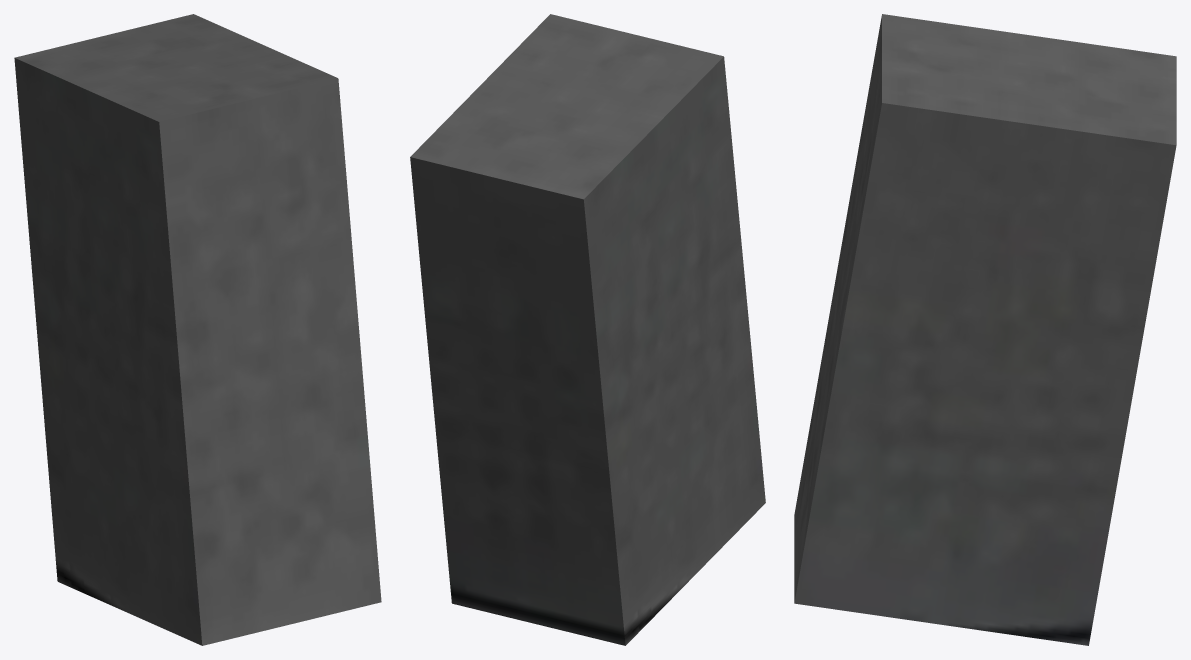
The model's file is frame__wheel_stub_1.glb.
The picture shows the model from 3 angles, left to right: view 1: azimuth 30°, elevation 25°; view 2: azimuth 150°, elevation 25°; view 3: azimuth 270°, elevation 25°; orthographic projection. The views are drawn at different scales.
Visible parts, largest first — view 1: world; view 2: world; view 3: world.
Boxes of the visible parts, <box> form: world: <box>14,14,381,645</box>; world: <box>410,14,765,645</box>; world: <box>794,14,1176,645</box>.
Size of the model in its own units: 0.024 by 0.0683 by 0.0436.
1 material, 1 textured.
